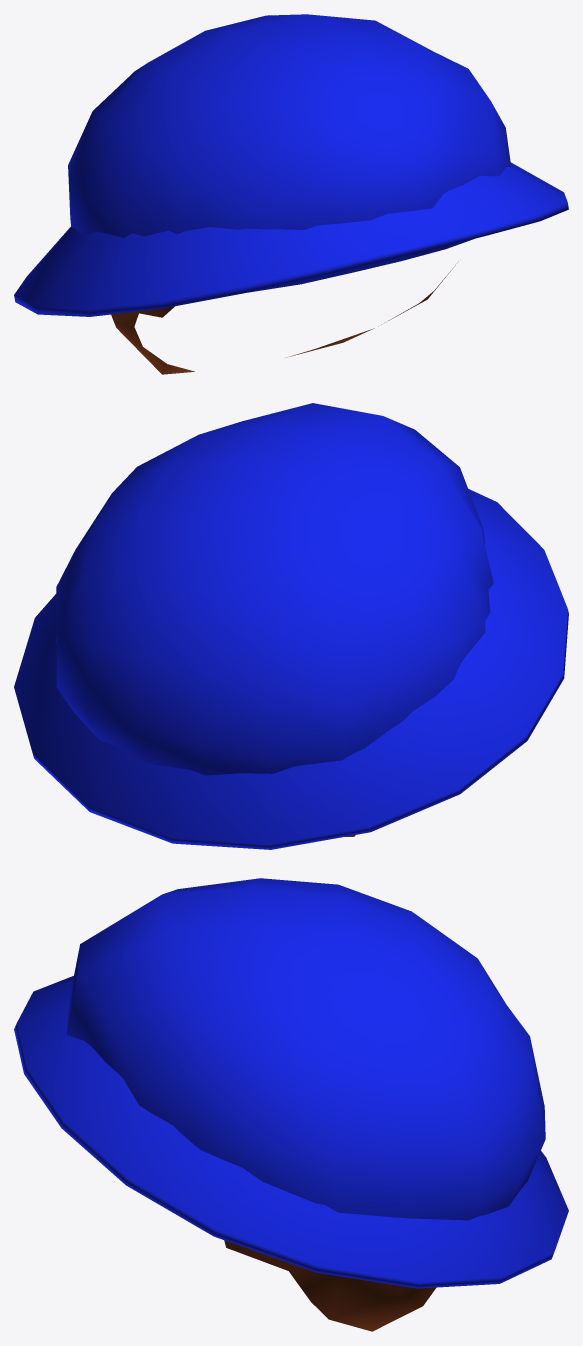
Rendered from hp_buckethat.glb.
3 renders of one model, top to bottom at view 1: azimuth 30°, elevation 25°; view 2: azimuth 150°, elevation 25°; view 3: azimuth 270°, elevation 25°, orthographic. The views are drawn at different scales.
Parts seen in each view (by area): view 1: HP_BucketHat; view 2: HP_BucketHat; view 3: HP_BucketHat.
Boxes of the visible parts, x1,y1,x2,y2 form: HP_BucketHat: [14, 14, 568, 374]; HP_BucketHat: [14, 403, 568, 849]; HP_BucketHat: [14, 878, 568, 1331].
Bounding box in the file's own units: 0.5984 × 0.4258 × 0.553.
Materials: 1 (1 with a texture image).
